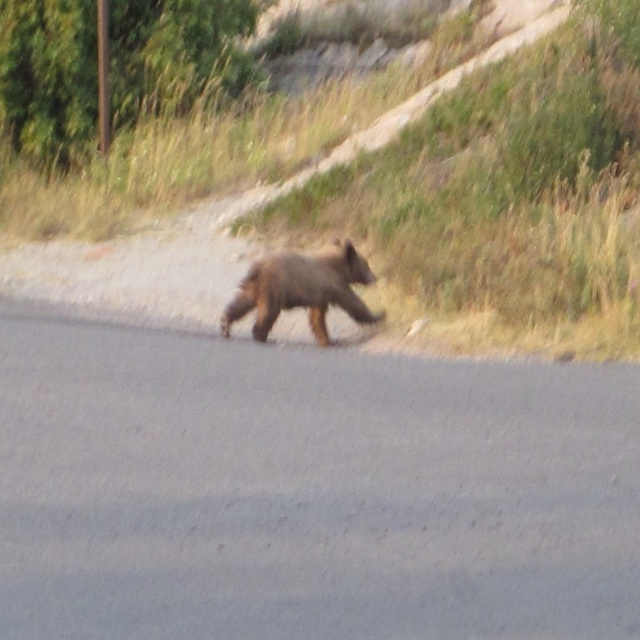Bear: (218, 237, 387, 348)
